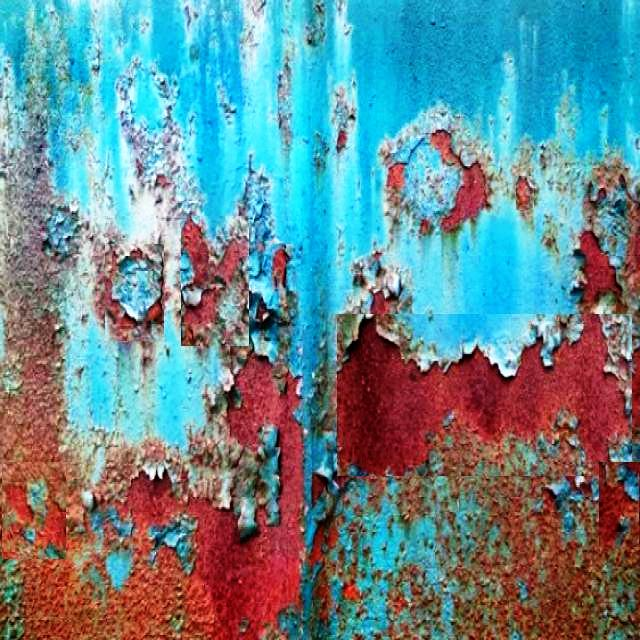Corrosion: (0, 0, 640, 544), (0, 60, 304, 640), (312, 412, 601, 640), (338, 316, 631, 476), (188, 357, 304, 640), (0, 29, 56, 394), (228, 356, 303, 528), (586, 159, 640, 340), (442, 162, 490, 232), (582, 232, 618, 301), (182, 288, 220, 346), (623, 208, 640, 326), (128, 481, 174, 524), (182, 218, 209, 288), (333, 84, 357, 152), (217, 239, 247, 284), (431, 129, 463, 166), (105, 550, 132, 590), (272, 247, 289, 304), (633, 350, 640, 440), (387, 162, 407, 190), (371, 291, 389, 315)
